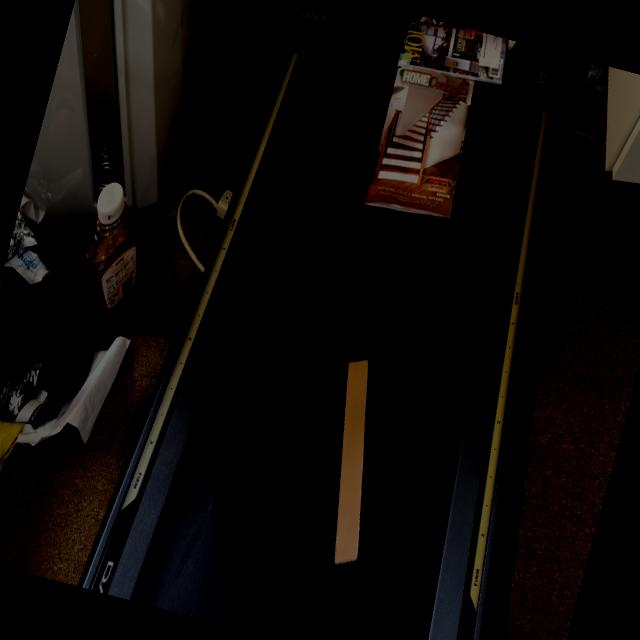Recycle: (289, 350, 411, 578), (360, 65, 486, 228), (394, 13, 516, 90)
